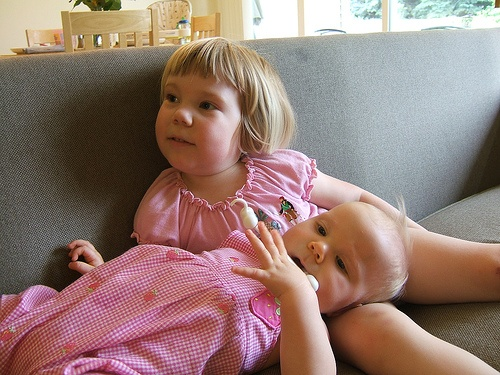head: (283, 199, 408, 315), (152, 40, 247, 183)
person: (109, 43, 499, 372), (1, 196, 411, 375)
